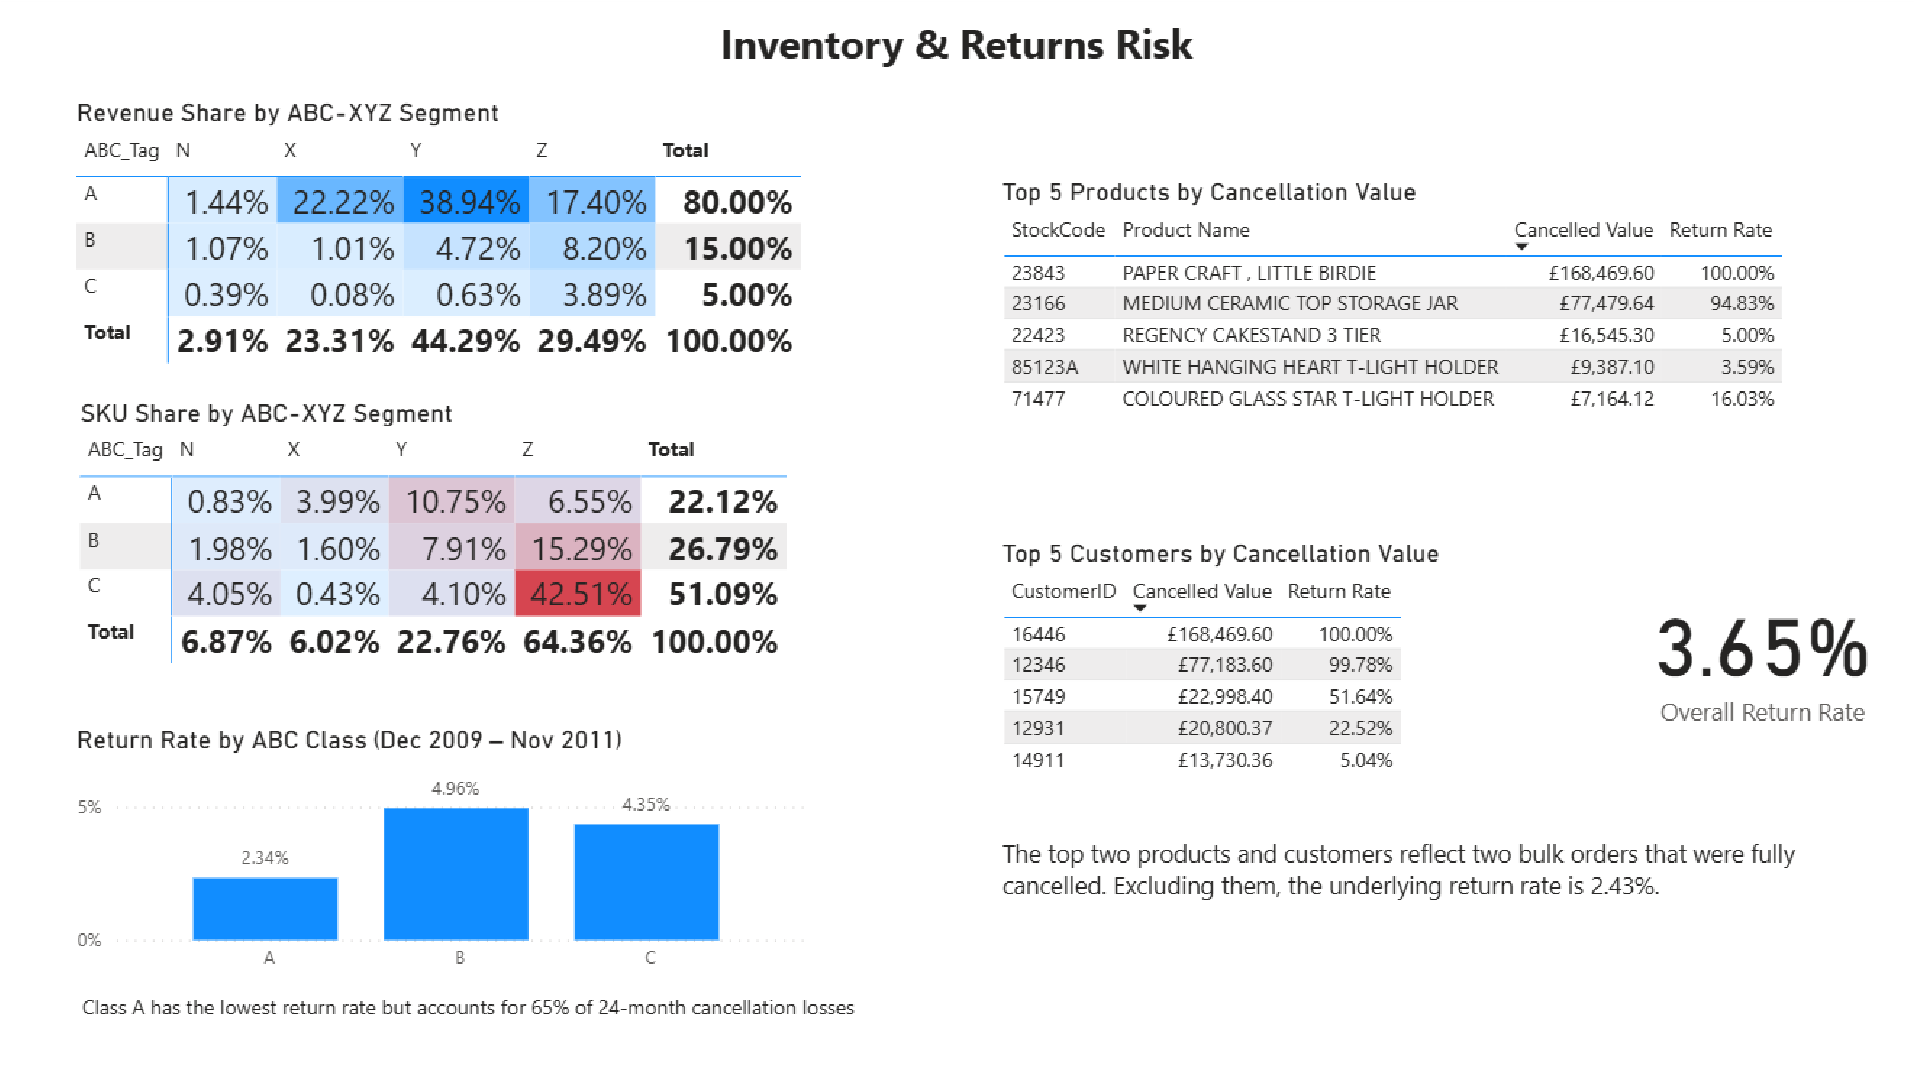

The page's visual inventory and layout, read from the dashboard file:
{"tool":"powerbi","page":{"name":"Inventory & Returns Risk","canvas":[1280,720],"ordinal":2},"visuals":[{"type":"textbox","box":[456.9,11,363.6,59],"z":0},{"type":"pivotTable","title":"Revenue Share by ABC-XYZ Segment","fields":{"Rows":["abc_xyz_results.ABC_Tag"],"Columns":["abc_xyz_results.XYZ_Tag"],"Values":["CountNonNull(abc_xyz_results.TotalRevenue)"]},"box":[48,70,528.3,182.5],"z":1000},{"type":"pivotTable","title":"SKU Share by ABC-XYZ Segment","fields":{"Rows":["abc_xyz_results.ABC_Tag"],"Columns":["abc_xyz_results.XYZ_Tag"],"Values":["Min(abc_xyz_results.StockCode)"]},"box":[50.8,270.3,488.5,182.5],"z":2000},{"type":"card","fields":{"Values":["vw_clean_retail.Return Rate"]},"box":[1096.4,378.7,159.2,126.2],"z":3000},{"type":"clusteredColumnChart","title":"Return Rate by ABC Class (Dec 2009 – Nov 2011)","fields":{"Category":["abc_xyz_results.ABC_Tag"],"Y":["vw_clean_retail.Return Rate"]},"box":[48,488.5,494,174.3],"z":4000},{"type":"textbox","box":[51.9,663.3,539.1,43.4],"z":5000},{"type":"tableEx","title":"Top 5 Products by Cancellation Value","fields":{"Values":["vw_clean_retail.StockCode","vw_clean_retail.Product Name","vw_clean_retail.Cancelled Value","vw_clean_retail.Return Rate"]},"box":[664.2,123.5,562.6,174.3],"z":6000},{"type":"tableEx","title":"Top 5 Customers by Cancellation Value","fields":{"Values":["vw_clean_retail.CustomerID","vw_clean_retail.Cancelled Value","vw_clean_retail.Return Rate"]},"box":[664.2,363.6,354,178.4],"z":7000},{"type":"textbox","box":[664.2,558.5,547.5,60.4],"z":8000}]}

Visuals, with their boxes in screenshot pixels (x1, y1, x2, y2), scaled from the page's 1280x720 canvas onto the 1914x1066 screenshot:
textbox: [x1=683, y1=16, x2=1227, y2=104]
"Revenue Share by ABC-XYZ Segment" pivotTable: [x1=72, y1=104, x2=862, y2=374]
"SKU Share by ABC-XYZ Segment" pivotTable: [x1=76, y1=400, x2=806, y2=670]
card - vw_clean_retail.Return Rate: [x1=1639, y1=561, x2=1878, y2=748]
"Return Rate by ABC Class (Dec 2009 – Nov 2011)" clusteredColumnChart: [x1=72, y1=723, x2=810, y2=981]
textbox: [x1=78, y1=982, x2=884, y2=1046]
"Top 5 Products by Cancellation Value" tableEx: [x1=993, y1=183, x2=1834, y2=441]
"Top 5 Customers by Cancellation Value" tableEx: [x1=993, y1=538, x2=1523, y2=802]
textbox: [x1=993, y1=827, x2=1812, y2=916]
